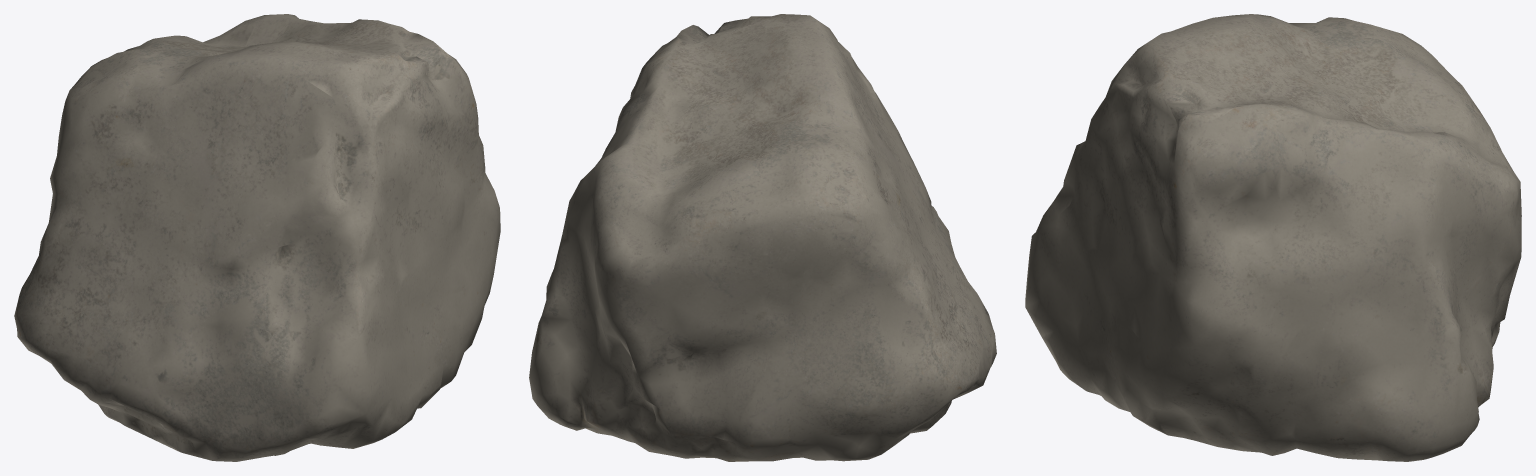
The model's file is moon_rock_02_4k.fbx.
3 renders of one model, left to right at view 1: azimuth 30°, elevation 25°; view 2: azimuth 150°, elevation 25°; view 3: azimuth 270°, elevation 25°, orthographic. The views are drawn at different scales.
Parts seen in each view (by area): view 1: moon_rock_02_LOD0; view 2: moon_rock_02_LOD0; view 3: moon_rock_02_LOD0.
Part boxes in pixels (x1=…): moon_rock_02_LOD0: x1=14, y1=14, x2=500, y2=461; moon_rock_02_LOD0: x1=529, y1=14, x2=996, y2=461; moon_rock_02_LOD0: x1=1025, y1=14, x2=1521, y2=461.
Bounding box in the file's own units: 24.65 × 20.19 × 25.13.
